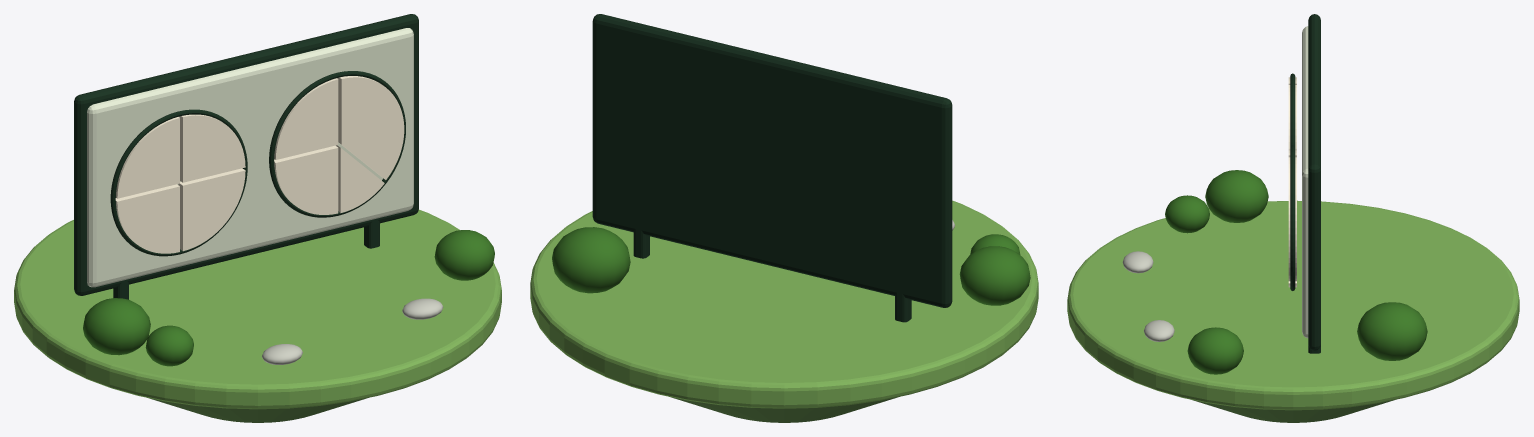
Rendered from fractions.glb.
3 renders of one model, left to right at view 1: azimuth 30°, elevation 25°; view 2: azimuth 150°, elevation 25°; view 3: azimuth 270°, elevation 25°, orthographic. The views are drawn at different scales.
Parts seen in each view (by area): view 1: IslandTop, Board, BoardFrame, USector_0, Sector_1, USector_2, Sector_0, Sector_2, USector_3, Sector_3, Bush0, Bush2 (+7 smaller); view 2: BoardFrame, IslandTop, Bush3, Bush0, IslandSoil, Bush1; view 3: IslandTop, BoardFrame, Bush3, Bush0, Board, Bush2, IslandSoil, Bush1, DiskUnequalRim, USector_0, Stone1, Stone0 (+1 smaller).
Part boxes in pixels (box(x1,y1,x2,y2)): IslandTop: box(14, 209, 501, 409); Board: box(87, 28, 413, 287); BoardFrame: box(74, 14, 418, 295); USector_0: box(337, 76, 404, 179); Sector_1: box(178, 168, 245, 251); USector_2: box(274, 145, 338, 214); Sector_0: box(179, 114, 245, 182); Sector_2: box(115, 184, 179, 253); USector_3: box(274, 78, 338, 159); Sector_3: box(116, 117, 179, 198); Bush0: box(83, 298, 150, 355); Bush2: box(434, 230, 494, 280); BoardFrame: box(592, 14, 952, 307); IslandTop: box(530, 200, 1038, 408); Bush3: box(552, 227, 630, 293); Bush0: box(959, 246, 1030, 305); IslandSoil: box(669, 396, 899, 422); Bush1: box(970, 234, 1020, 254); IslandTop: box(1067, 200, 1519, 410); BoardFrame: box(1308, 14, 1320, 350); Bush3: box(1357, 302, 1427, 360); Bush0: box(1205, 170, 1268, 222); Board: box(1302, 26, 1308, 338); Bush2: box(1187, 327, 1243, 374); IslandSoil: box(1192, 400, 1394, 422); Bush1: box(1165, 195, 1209, 233); DiskUnequalRim: box(1290, 145, 1295, 290); USector_0: box(1288, 157, 1296, 281); Stone1: box(1122, 251, 1153, 273); Stone0: box(1144, 320, 1174, 341).
Size of the model in its own units: 6.4 by 4.65 by 6.4.
